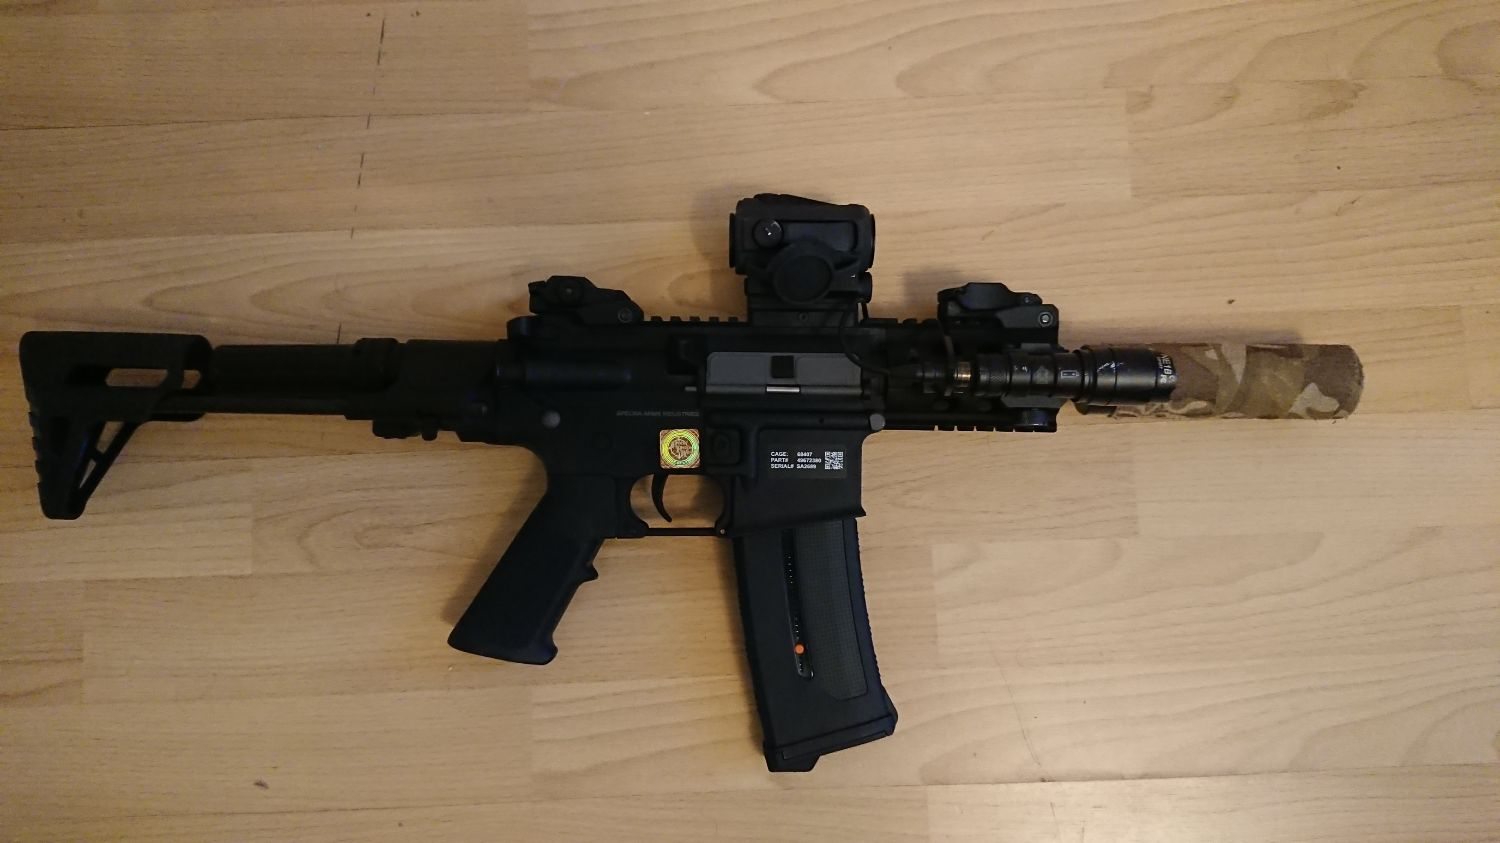m4_carbine: (451, 312, 902, 777)
